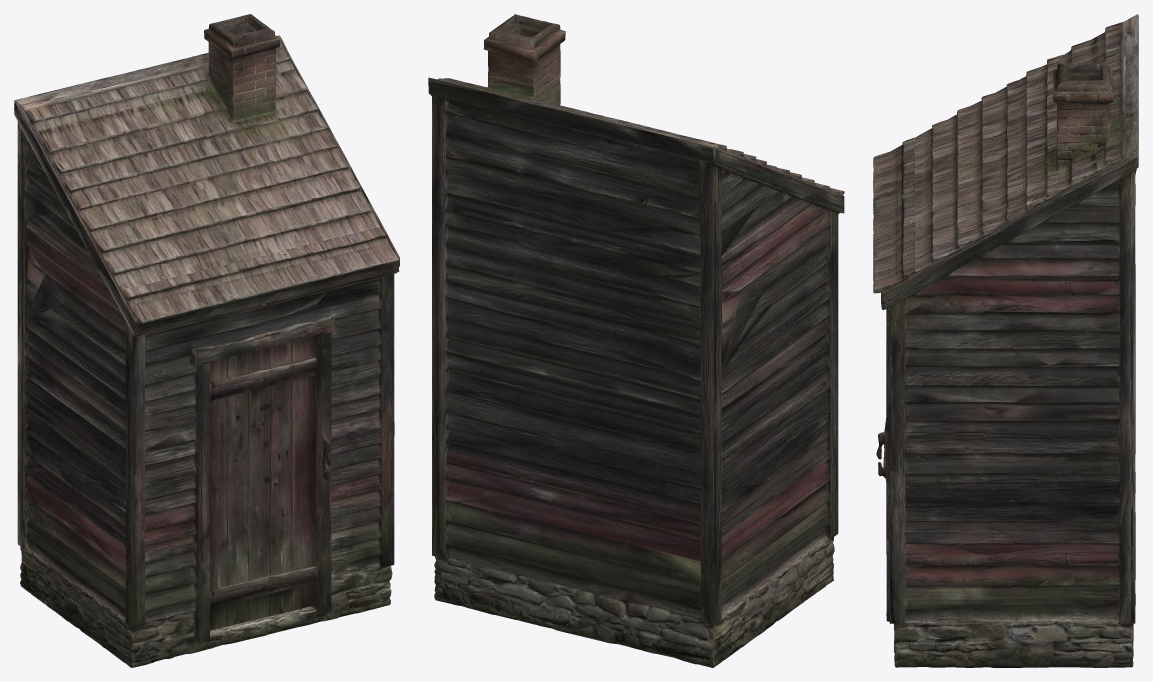
File: infill-service-shed.glb
3 renders of one model, left to right at view 1: azimuth 30°, elevation 25°; view 2: azimuth 150°, elevation 25°; view 3: azimuth 270°, elevation 25°, orthographic. The views are drawn at different scales.
Visible parts, largest first — view 1: Mesh_0; view 2: Mesh_0; view 3: Mesh_0.
Boxes of the visible parts, <box> form: Mesh_0: <box>14,14,399,667</box>; Mesh_0: <box>428,14,844,667</box>; Mesh_0: <box>873,14,1138,667</box>.
Bounding box in the file's own units: 0.9981 × 1.9 × 0.8092.
Materials: 1 (1 with a texture image).
